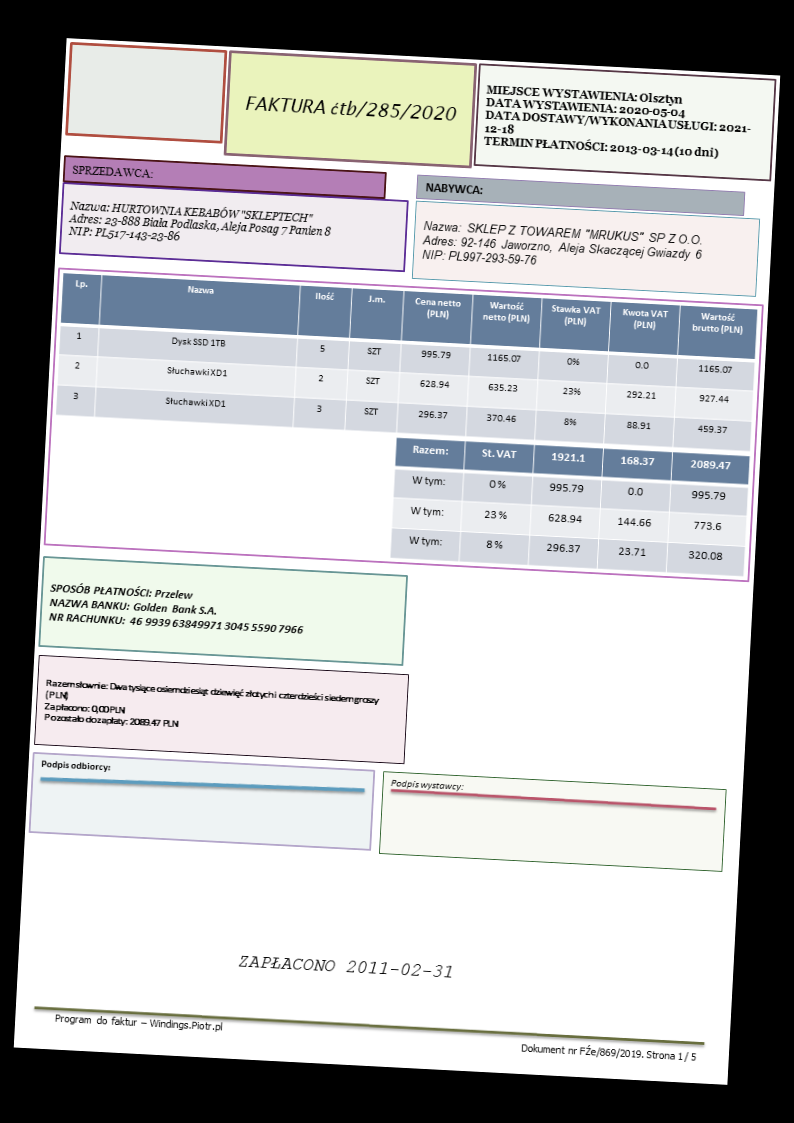Table: (54, 272, 757, 452), (388, 436, 751, 577)
TextBox: (41, 676, 382, 740), (482, 83, 754, 162), (420, 217, 705, 277), (47, 580, 307, 637), (66, 198, 332, 252), (243, 91, 458, 126), (237, 953, 455, 982), (518, 1040, 698, 1068), (52, 1012, 224, 1035), (69, 163, 155, 182), (37, 758, 115, 775), (423, 180, 484, 199), (389, 778, 465, 793)
